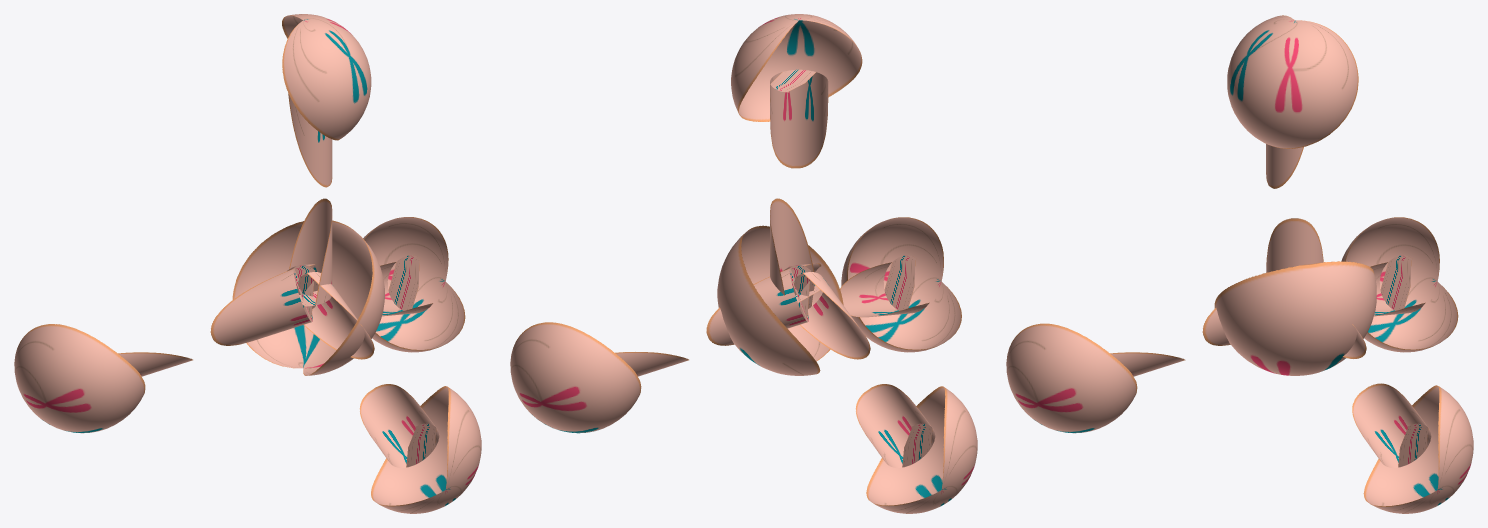
The picture shows the model from 3 angles, left to right: view 1: azimuth 30°, elevation 25°; view 2: azimuth 150°, elevation 25°; view 3: azimuth 270°, elevation 25°; orthographic projection.
Parts seen in each view (by area): view 1: D4; view 2: D4; view 3: D4.
Part boxes in pixels (x1,y1,x2,y2): D4: (14,14,481,513); D4: (510,14,977,513); D4: (1006,15,1473,513).
Bounding box in the file's own units: 21.23 × 18.36 × 19.12.
